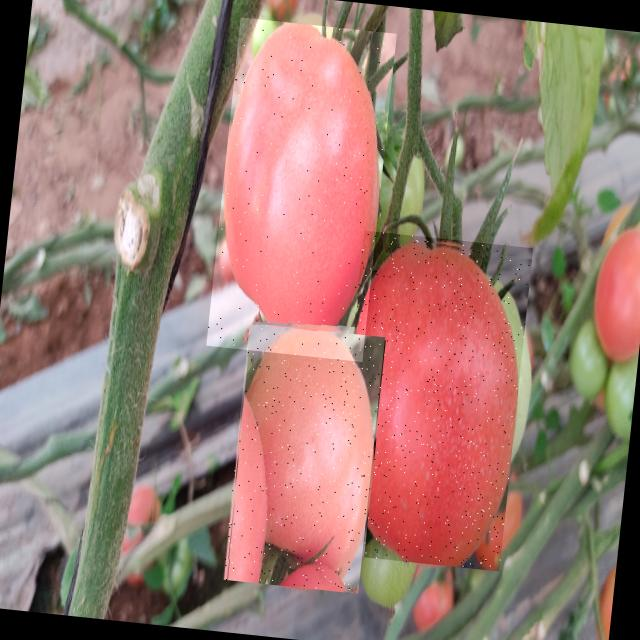Ripe Tomato: (330, 230, 532, 571), (206, 17, 397, 362), (222, 323, 384, 594)
